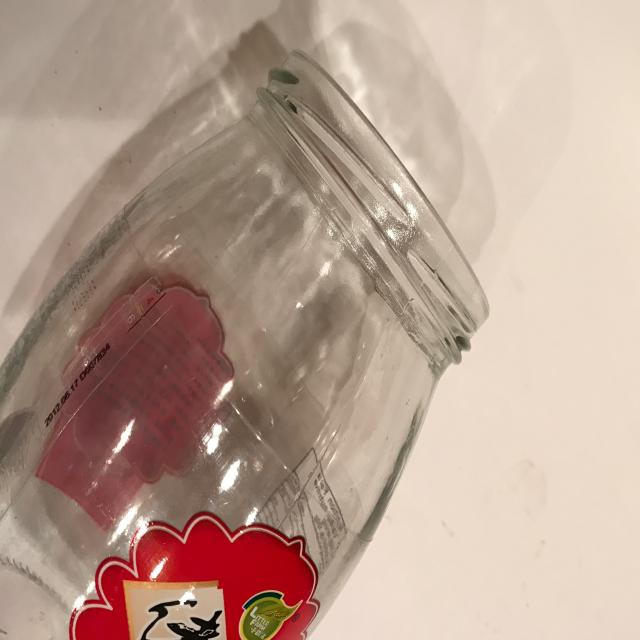glass: (0, 47, 490, 640)
